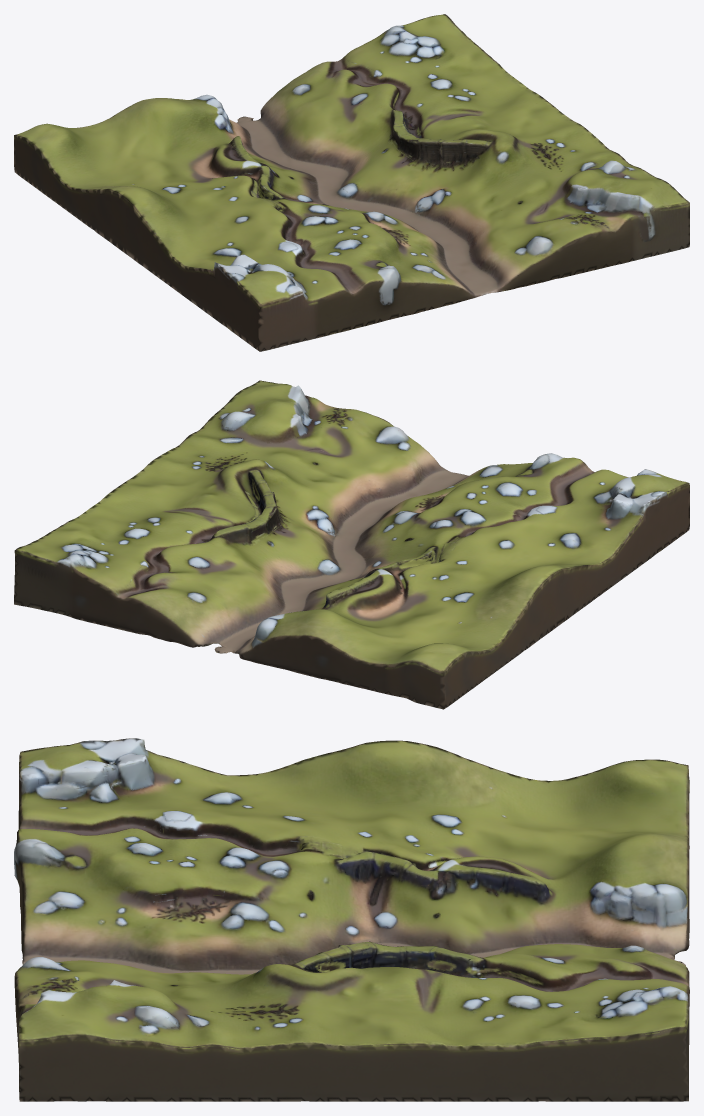
The model's file is LutzenLandscape.glb.
3 renders of one model, top to bottom at view 1: azimuth 30°, elevation 25°; view 2: azimuth 150°, elevation 25°; view 3: azimuth 270°, elevation 25°, orthographic. The views are drawn at different scales.
Visible parts, largest first — view 1: Mesh0; view 2: Mesh0; view 3: Mesh0.
Part boxes in pixels (box(x1,y1,x2,y2)): Mesh0: box(14, 14, 689, 351); Mesh0: box(14, 380, 689, 709); Mesh0: box(14, 738, 689, 1101).
Bounding box in the file's own units: 157 × 20 × 157.
1 material, 1 textured.
